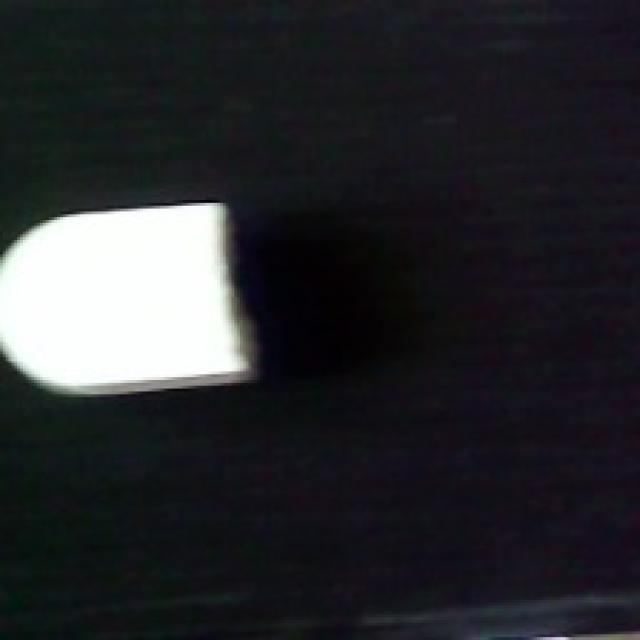defected: (0, 197, 266, 400)
